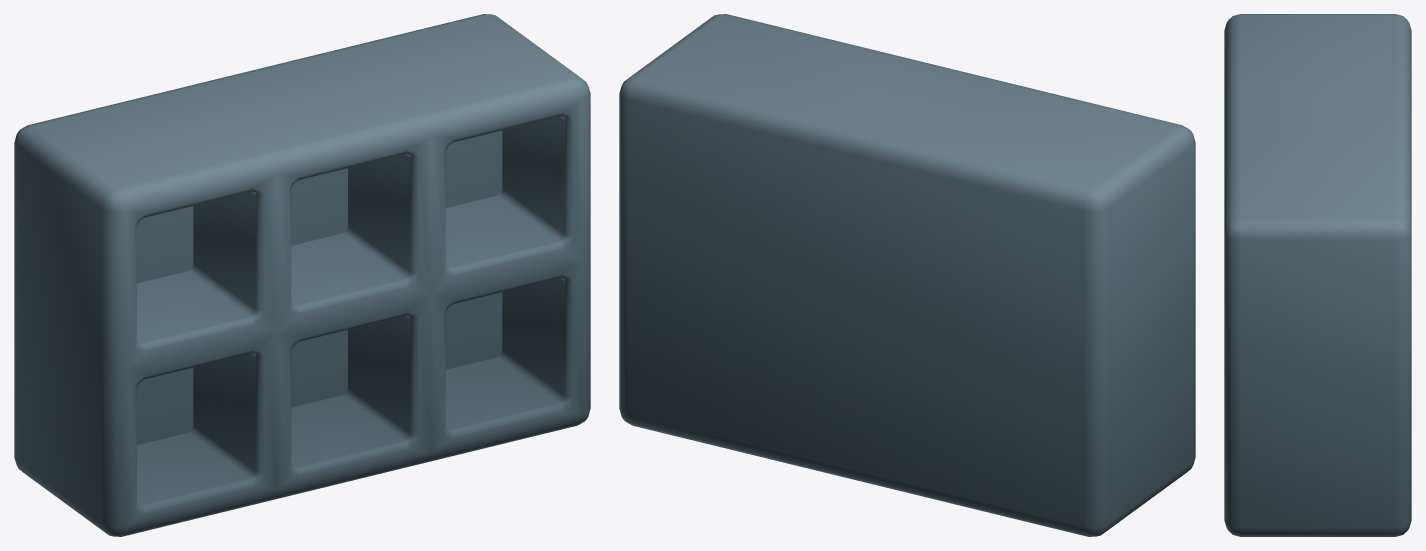
The model's file is Shelving_01.glb.
The picture shows the model from 3 angles, left to right: view 1: azimuth 30°, elevation 25°; view 2: azimuth 150°, elevation 25°; view 3: azimuth 270°, elevation 25°; orthographic projection. The views are drawn at different scales.
Parts seen in each view (by area): view 1: Shelving_01; view 2: Shelving_01; view 3: Shelving_01.
Boxes of the visible parts, x1,y1,x2,y2 form: Shelving_01: [14, 14, 590, 536]; Shelving_01: [619, 14, 1195, 536]; Shelving_01: [1224, 14, 1411, 536].
Bounding box in the file's own units: 1.09 × 0.7459 × 0.3987.
1 material, 1 textured.
